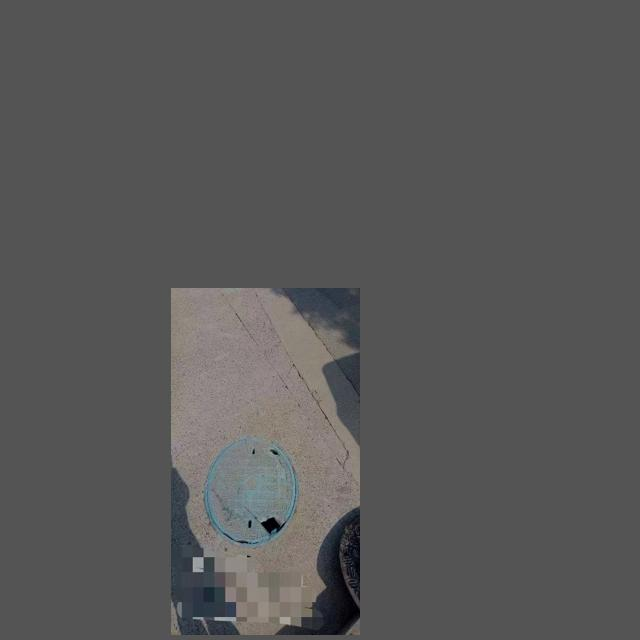broke: (204, 436, 296, 546)
